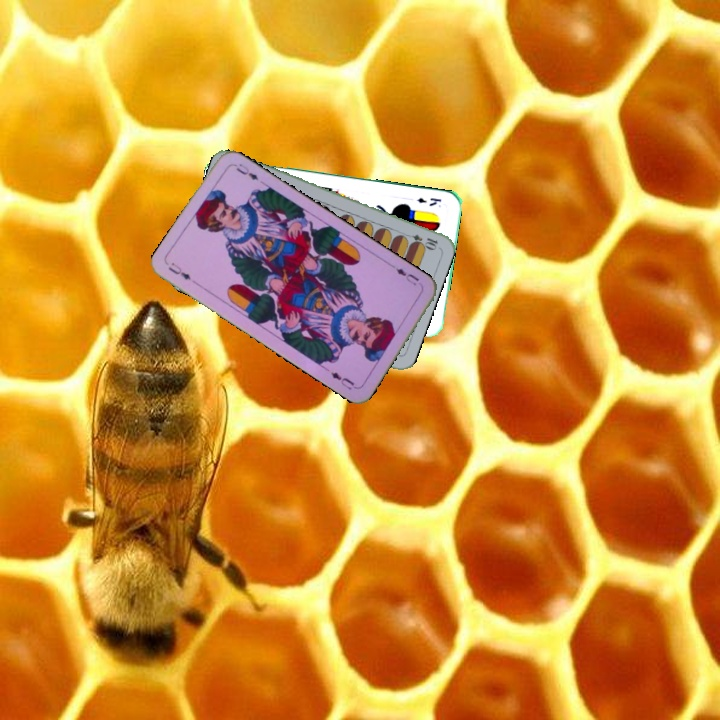E10: (400, 229, 440, 251)
EK: (414, 194, 444, 209)
EU: (388, 263, 421, 288), (164, 258, 193, 283)
